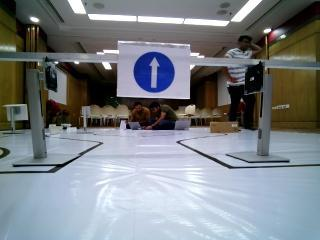straight: (119, 41, 189, 97)
